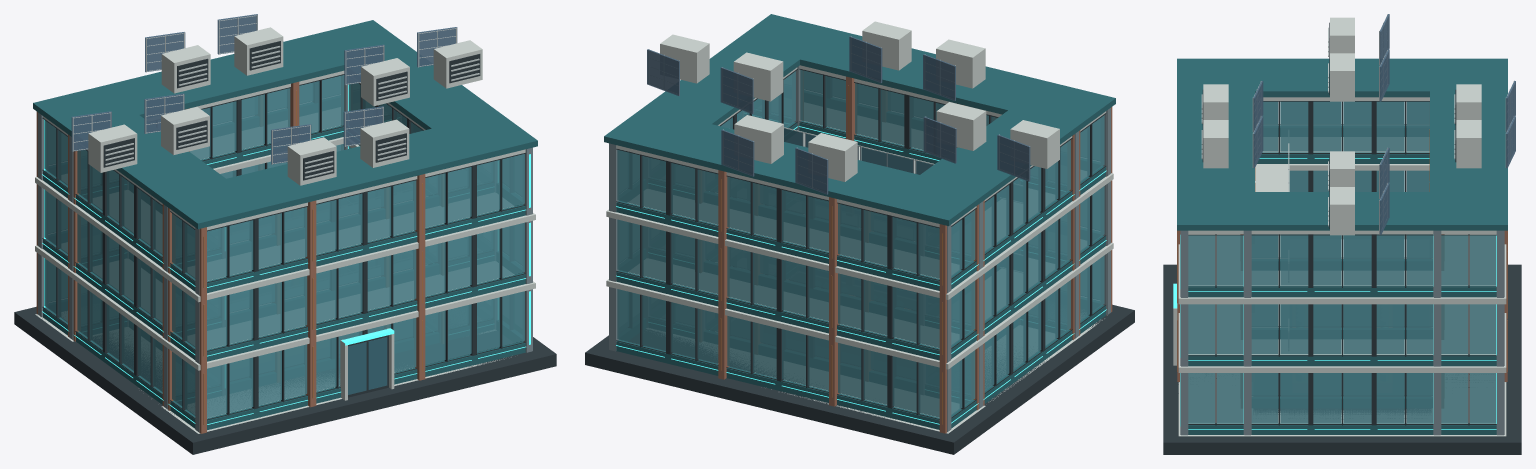
The model's file is Habitat_Courtyard_3F.glb.
3 views of the same model, side by side, from view 1: azimuth 30°, elevation 25°; view 2: azimuth 150°, elevation 25°; view 3: azimuth 270°, elevation 25° (orthographic).
Parts seen in each view (by area): view 1: Habitat_Courtyard_3F__Roof_Coping_Unit, Habitat_Courtyard_3F__Plinth_Unit, Habitat_Courtyard_3F__Roof_Coping_Unit.001, Habitat_Courtyard_3F__Roof_Coping_Unit.002, Habitat_Courtyard_3F__Roof_Coping_Unit.003, Habitat_Courtyard_3F__Entry_Airlock, Habitat_Courtyard_3F__Floor_Slab_Unit.002, Habitat_Courtyard_3F__Floor_Slab_Unit.001, Habitat_Courtyard_3F__Facade_Glazing_3m.031, Habitat_Courtyard_3F__Facade_Glazing_3m.017, Habitat_Courtyard_3F__Facade_Glazing_3m.029, Habitat_Courtyard_3F__Facade_Glazing_3m.001 (+94 smaller); view 2: Habitat_Courtyard_3F__Plinth_Unit, Habitat_Courtyard_3F__Roof_Coping_Unit.001, Habitat_Courtyard_3F__Roof_Coping_Unit, Habitat_Courtyard_3F__Roof_Coping_Unit.002, Habitat_Courtyard_3F__Roof_Coping_Unit.003, Habitat_Courtyard_3F__Floor_Slab_Unit.004, Habitat_Courtyard_3F__Floor_Slab_Unit.005, Habitat_Courtyard_3F__Facade_Glazing_3m.038, Habitat_Courtyard_3F__Facade_Glazing_3m.078, Habitat_Courtyard_3F__Facade_Glazing_3m.050, Habitat_Courtyard_3F__Facade_Glazing_3m.064, Habitat_Courtyard_3F__Facade_Glazing_3m.080 (+96 smaller); view 3: Habitat_Courtyard_3F__Plinth_Unit, Habitat_Courtyard_3F__Roof_Coping_Unit, Habitat_Courtyard_3F__Roof_Coping_Unit.001, Habitat_Courtyard_3F__Roof_Coping_Unit.003, Habitat_Courtyard_3F__Roof_Coping_Unit.002, Habitat_Courtyard_3F__Facade_Glazing_3m.106, Habitat_Courtyard_3F__Facade_Glazing_3m.130, Habitat_Courtyard_3F__Facade_Glazing_3m.129, Habitat_Courtyard_3F__Facade_Glazing_3m.114, Habitat_Courtyard_3F__Facade_Glazing_3m.122, Habitat_Courtyard_3F__Facade_Glazing_3m.131, Habitat_Courtyard_3F__Facade_Glazing_3m.113 (+72 smaller).
Boxes of the visible parts, box(x1,y1,x2,y2) form: Habitat_Courtyard_3F__Roof_Coping_Unit: box(159, 112, 537, 229); Habitat_Courtyard_3F__Plinth_Unit: box(14, 306, 556, 454); Habitat_Courtyard_3F__Roof_Coping_Unit.001: box(33, 20, 411, 136); Habitat_Courtyard_3F__Roof_Coping_Unit.002: box(65, 113, 231, 200); Habitat_Courtyard_3F__Roof_Coping_Unit.003: box(339, 43, 503, 133); Habitat_Courtyard_3F__Entry_Airlock: box(340, 328, 394, 400); Habitat_Courtyard_3F__Floor_Slab_Unit.002: box(161, 206, 535, 302); Habitat_Courtyard_3F__Floor_Slab_Unit.001: box(161, 274, 535, 370); Habitat_Courtyard_3F__Facade_Glazing_3m.031: box(367, 180, 416, 241); Habitat_Courtyard_3F__Facade_Glazing_3m.017: box(367, 249, 416, 310); Habitat_Courtyard_3F__Facade_Glazing_3m.029: box(258, 207, 307, 268); Habitat_Courtyard_3F__Facade_Glazing_3m.001: box(258, 344, 307, 405); Habitat_Courtyard_3F__Plinth_Unit: box(585, 304, 1134, 454); Habitat_Courtyard_3F__Roof_Coping_Unit.001: box(604, 107, 988, 226); Habitat_Courtyard_3F__Roof_Coping_Unit: box(732, 14, 1115, 132); Habitat_Courtyard_3F__Roof_Coping_Unit.002: box(913, 105, 1082, 196); Habitat_Courtyard_3F__Roof_Coping_Unit.003: box(638, 37, 806, 129); Habitat_Courtyard_3F__Floor_Slab_Unit.004: box(606, 272, 985, 369); Habitat_Courtyard_3F__Floor_Slab_Unit.005: box(606, 202, 984, 299); Habitat_Courtyard_3F__Facade_Glazing_3m.038: box(855, 83, 904, 145); Habitat_Courtyard_3F__Facade_Glazing_3m.078: box(838, 203, 887, 265); Habitat_Courtyard_3F__Facade_Glazing_3m.050: box(838, 343, 887, 404); Habitat_Courtyard_3F__Facade_Glazing_3m.064: box(838, 273, 887, 335); Habitat_Courtyard_3F__Facade_Glazing_3m.080: box(727, 176, 776, 238); Habitat_Courtyard_3F__Plinth_Unit: box(1163, 264, 1521, 454); Habitat_Courtyard_3F__Roof_Coping_Unit: box(1177, 58, 1254, 230); Habitat_Courtyard_3F__Roof_Coping_Unit.001: box(1430, 58, 1507, 230); Habitat_Courtyard_3F__Roof_Coping_Unit.003: box(1240, 192, 1444, 230); Habitat_Courtyard_3F__Roof_Coping_Unit.002: box(1240, 58, 1444, 97); Habitat_Courtyard_3F__Facade_Glazing_3m.106: box(1313, 101, 1371, 151); Habitat_Courtyard_3F__Facade_Glazing_3m.130: box(1313, 235, 1371, 285); Habitat_Courtyard_3F__Facade_Glazing_3m.129: box(1251, 235, 1308, 285); Habitat_Courtyard_3F__Facade_Glazing_3m.114: box(1313, 373, 1371, 422); Habitat_Courtyard_3F__Facade_Glazing_3m.122: box(1313, 304, 1371, 353); Habitat_Courtyard_3F__Facade_Glazing_3m.131: box(1376, 235, 1432, 285); Habitat_Courtyard_3F__Facade_Glazing_3m.113: box(1251, 373, 1308, 422).
Bounding box in the file's own units: 21 × 13.54 × 17.
